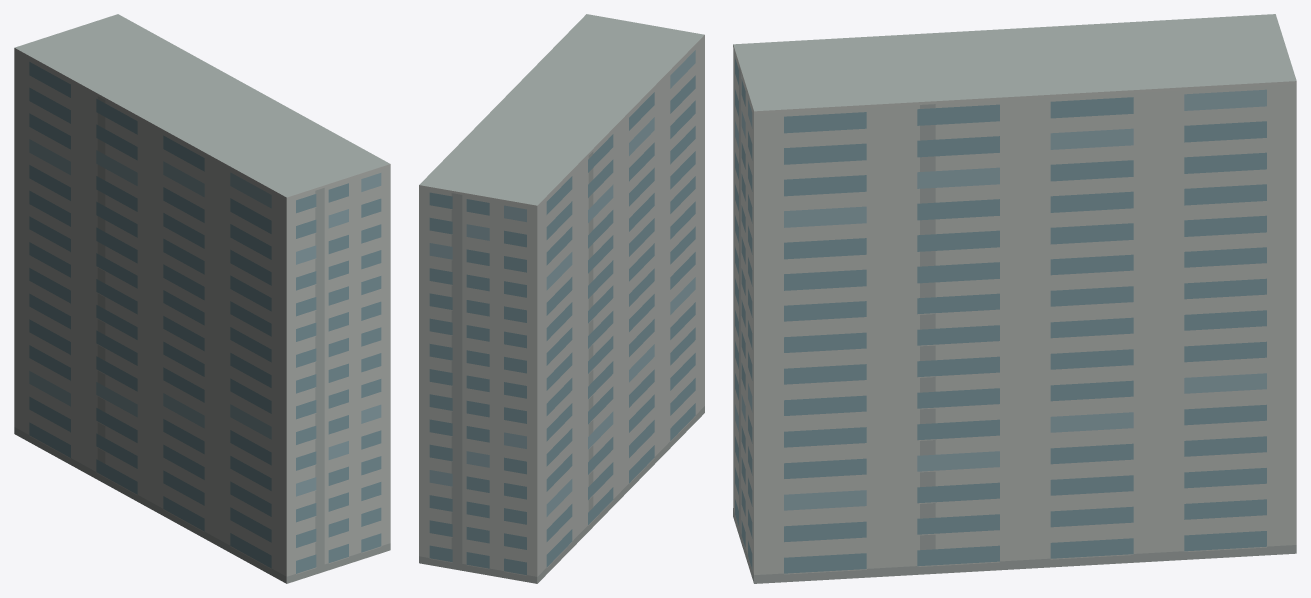
Rendered from residential-0b4aa150-caf1-46c3-b816-7ba6eb1661c1.glb.
3 renders of one model, left to right at view 1: azimuth 30°, elevation 25°; view 2: azimuth 150°, elevation 25°; view 3: azimuth 270°, elevation 25°, orthographic. The views are drawn at different scales.
Parts seen in each view (by area): view 1: residential-0b4aa150-caf1-46c3-b816-7ba6eb1661c1.tmp; view 2: residential-0b4aa150-caf1-46c3-b816-7ba6eb1661c1.tmp; view 3: residential-0b4aa150-caf1-46c3-b816-7ba6eb1661c1.tmp.
Part boxes in pixels (x1,y1,x2,y2): residential-0b4aa150-caf1-46c3-b816-7ba6eb1661c1.tmp: (14,14,390,583); residential-0b4aa150-caf1-46c3-b816-7ba6eb1661c1.tmp: (419,14,704,583); residential-0b4aa150-caf1-46c3-b816-7ba6eb1661c1.tmp: (733,14,1296,583).
Bounding box in the file's own units: 17.67 × 40 × 43.24.
